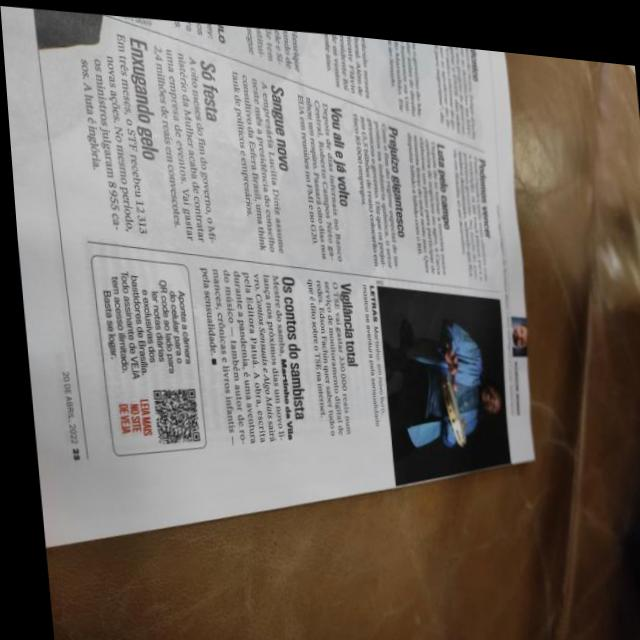qrcode: (147, 382, 194, 445)
